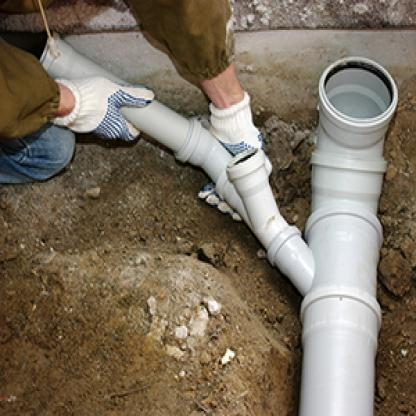PVC: (119, 57, 398, 414), (42, 33, 136, 86)
